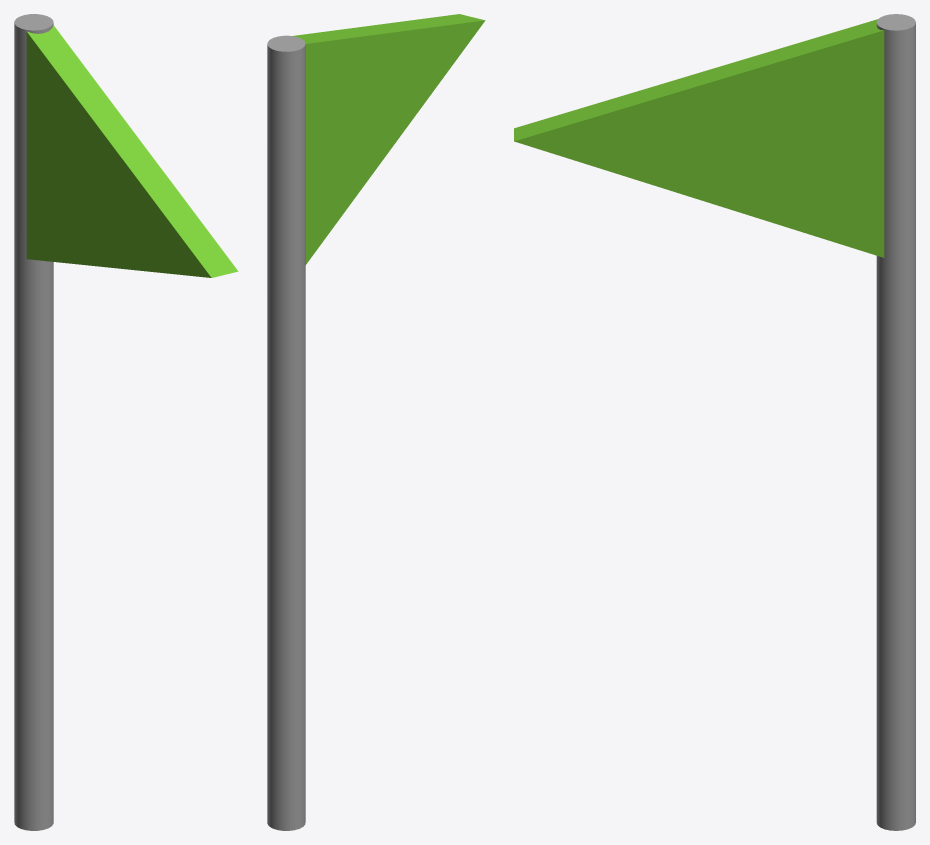
Rendered from WinFlag.fbx.
3 renders of one model, left to right at view 1: azimuth 30°, elevation 25°; view 2: azimuth 150°, elevation 25°; view 3: azimuth 270°, elevation 25°, orthographic. The views are drawn at different scales.
Visible parts, largest first — view 1: pCube2; view 2: pCube2; view 3: pCube2.
Part boxes in pixels (x1,y1,x2,y2): pCube2: (14,14,238,830); pCube2: (267,14,485,830); pCube2: (514,14,915,830).
Bounding box in the file's own units: 4.27 × 95.56 × 43.5.
